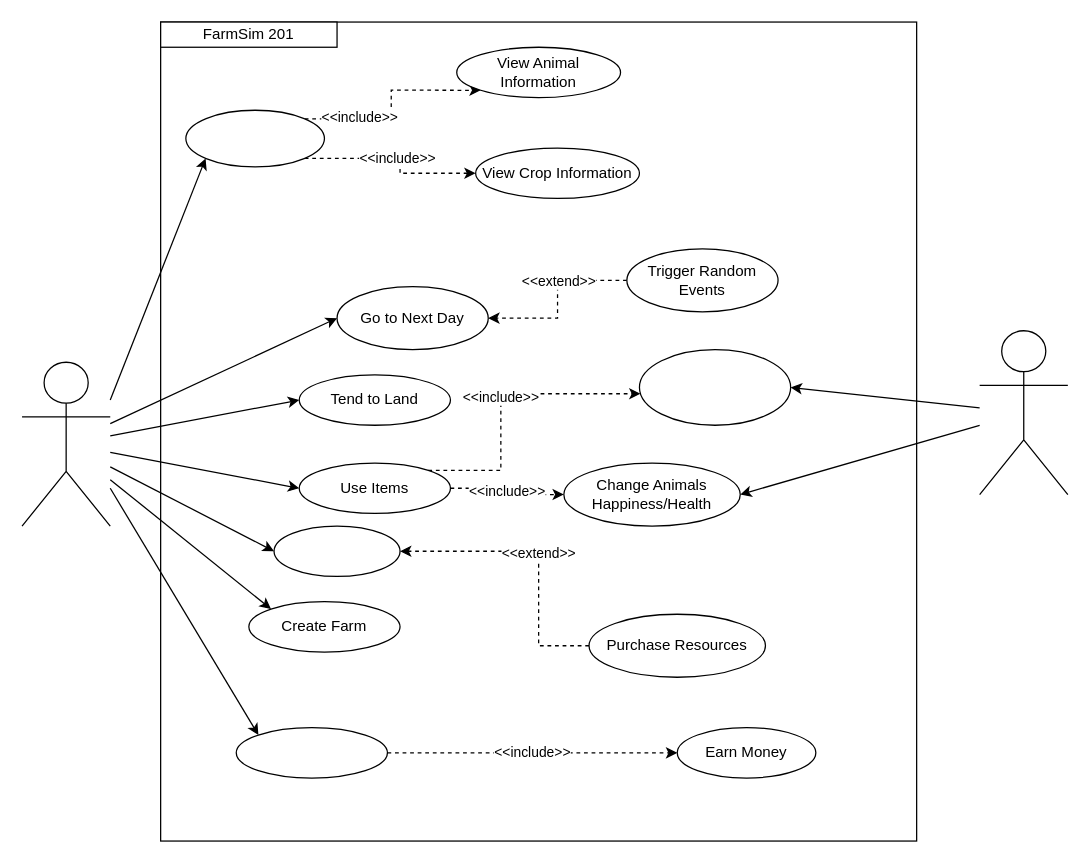
Image size: 1090x863. Some labels were removed from this diagram. Each missing label, with the centre of its shape:
"Change Crop Grow Time" goes at (x=714, y=386).
"Harvest Crops" goes at (x=311, y=752).
"Player" goes at (x=65, y=443).
"Time" goes at (x=1023, y=412).
"View Farm Information" goes at (x=254, y=138).
"Visit Store" goes at (x=336, y=550).
